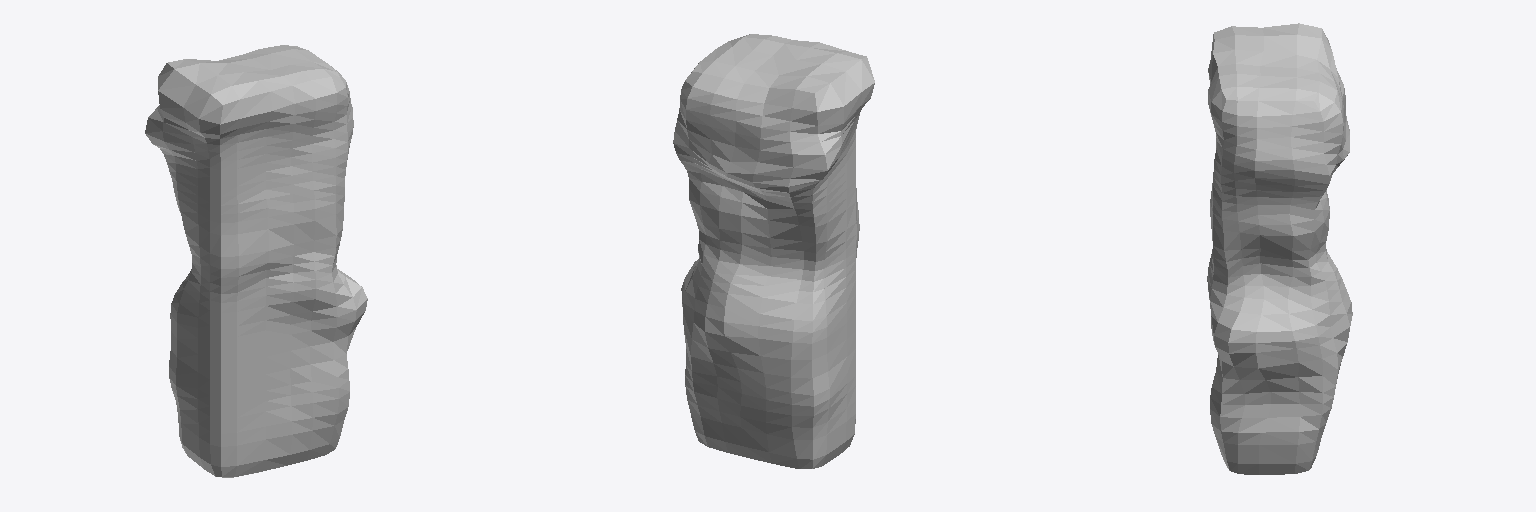
The model's file is PM3D_rock001_013.OBJ.
3 views of the same model, side by side, from view 1: azimuth 30°, elevation 25°; view 2: azimuth 150°, elevation 25°; view 3: azimuth 270°, elevation 25° (orthographic).
Visible parts, largest first — view 1: Group38658; view 2: Group38658; view 3: Group38658.
Boxes of the visible parts, <box> form: Group38658: <box>145,45,367,477</box>; Group38658: <box>673,34,874,468</box>; Group38658: <box>1207,23,1352,474</box>.
Size of the model in its own units: 1961 by 4257 by 1419.